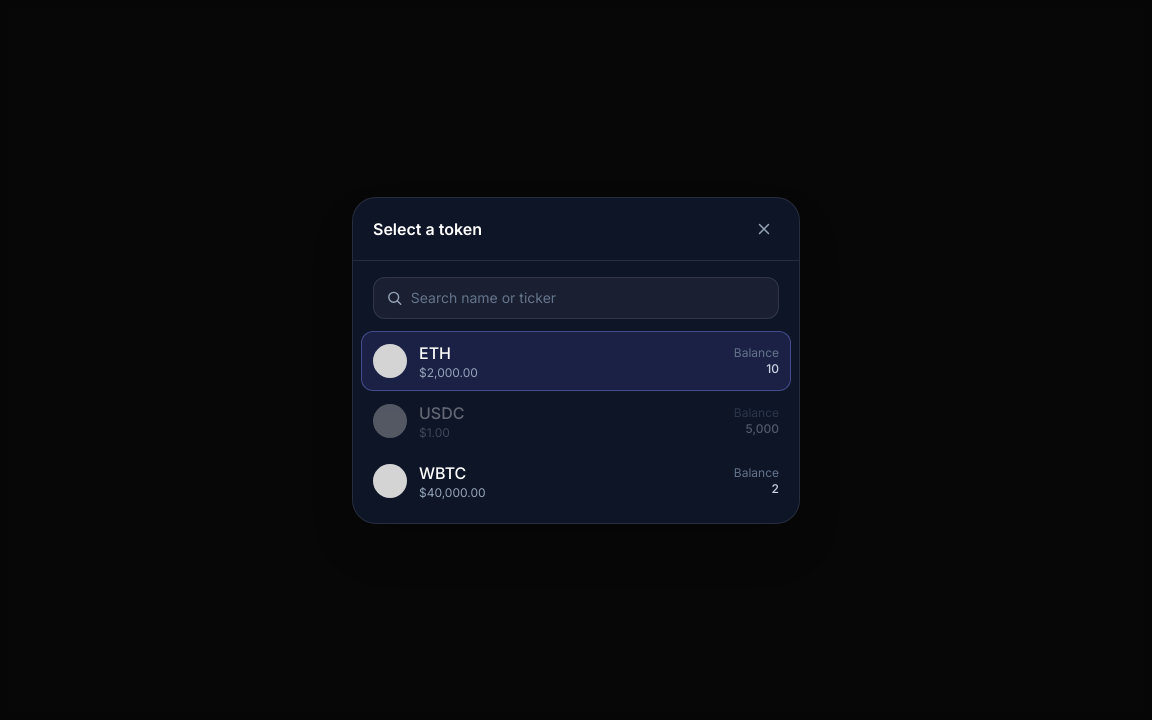
Test: TokenSelectModal › shows an empty state when nothing matches
Type "zzz" into the field with placeholder "Search name or ticker" at (588, 298), box 411,288 -> 766,308
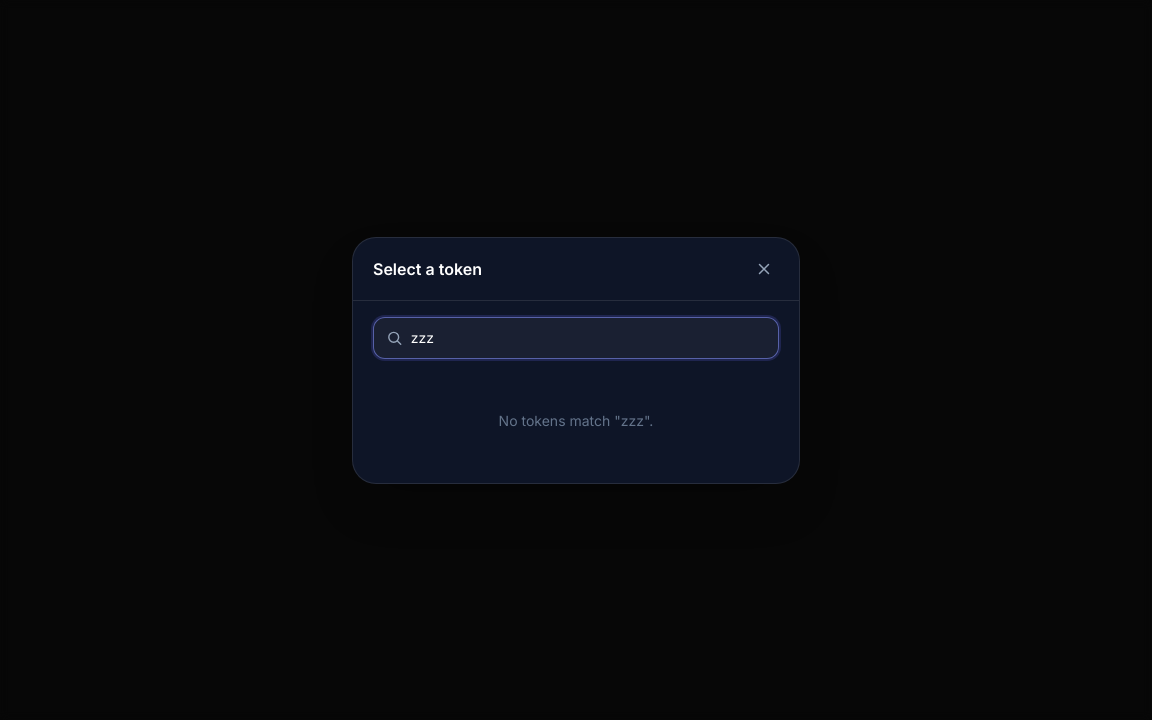
Now the list item "No tokens match \"zzz\"." is shown, box 499,412 -> 653,428
